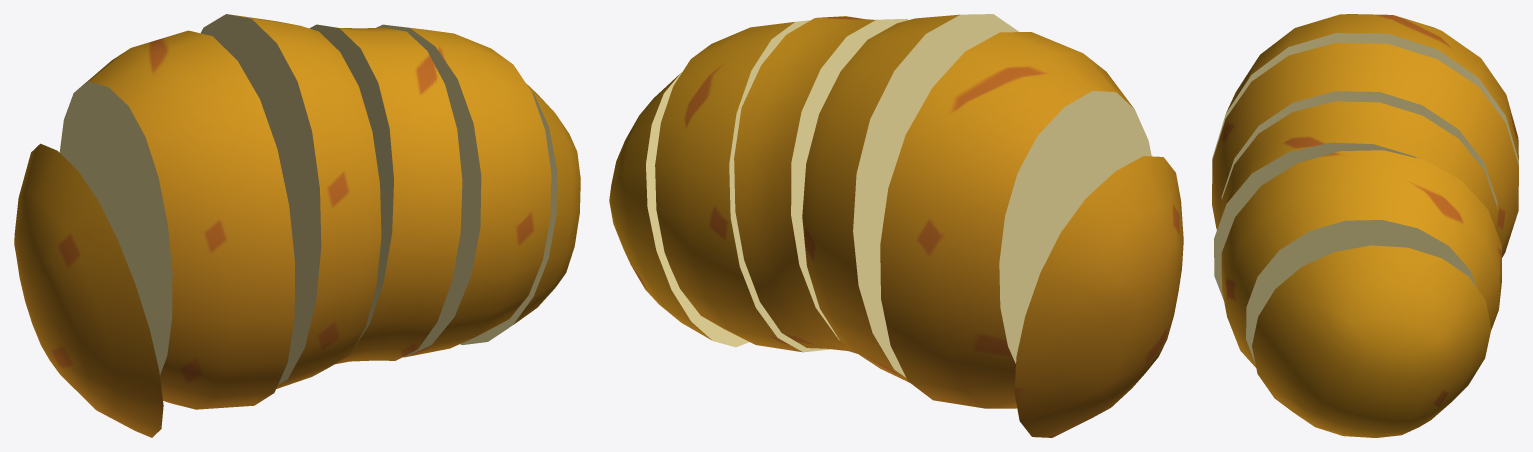
File: Potato_01_S5.fbx
3 renders of one model, left to right at view 1: azimuth 30°, elevation 25°; view 2: azimuth 150°, elevation 25°; view 3: azimuth 270°, elevation 25°, orthographic. The views are drawn at different scales.
Parts seen in each view (by area): view 1: Potato_01_S5; view 2: Potato_01_S5; view 3: Potato_01_S5.
Part boxes in pixels (x1,y1,x2,y2): Potato_01_S5: (14, 14, 580, 437); Potato_01_S5: (609, 14, 1183, 437); Potato_01_S5: (1212, 14, 1518, 437).
Size of the model in its own units: 69.87 by 46.15 by 39.91.
